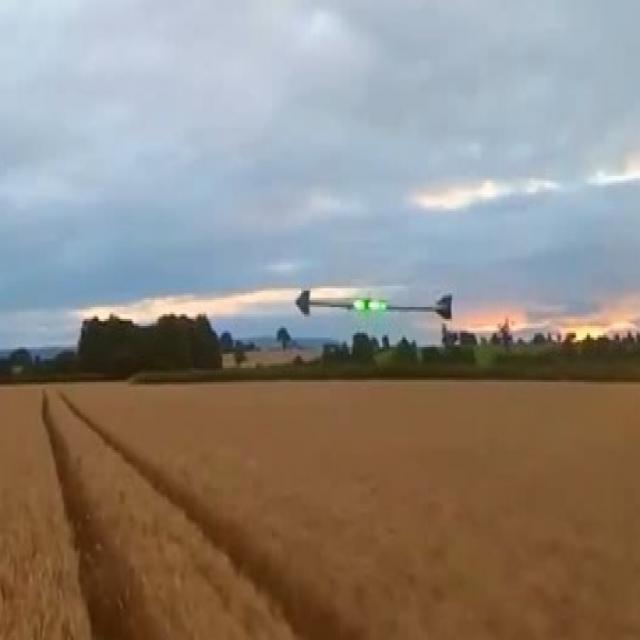iha: (246, 309, 466, 322)
